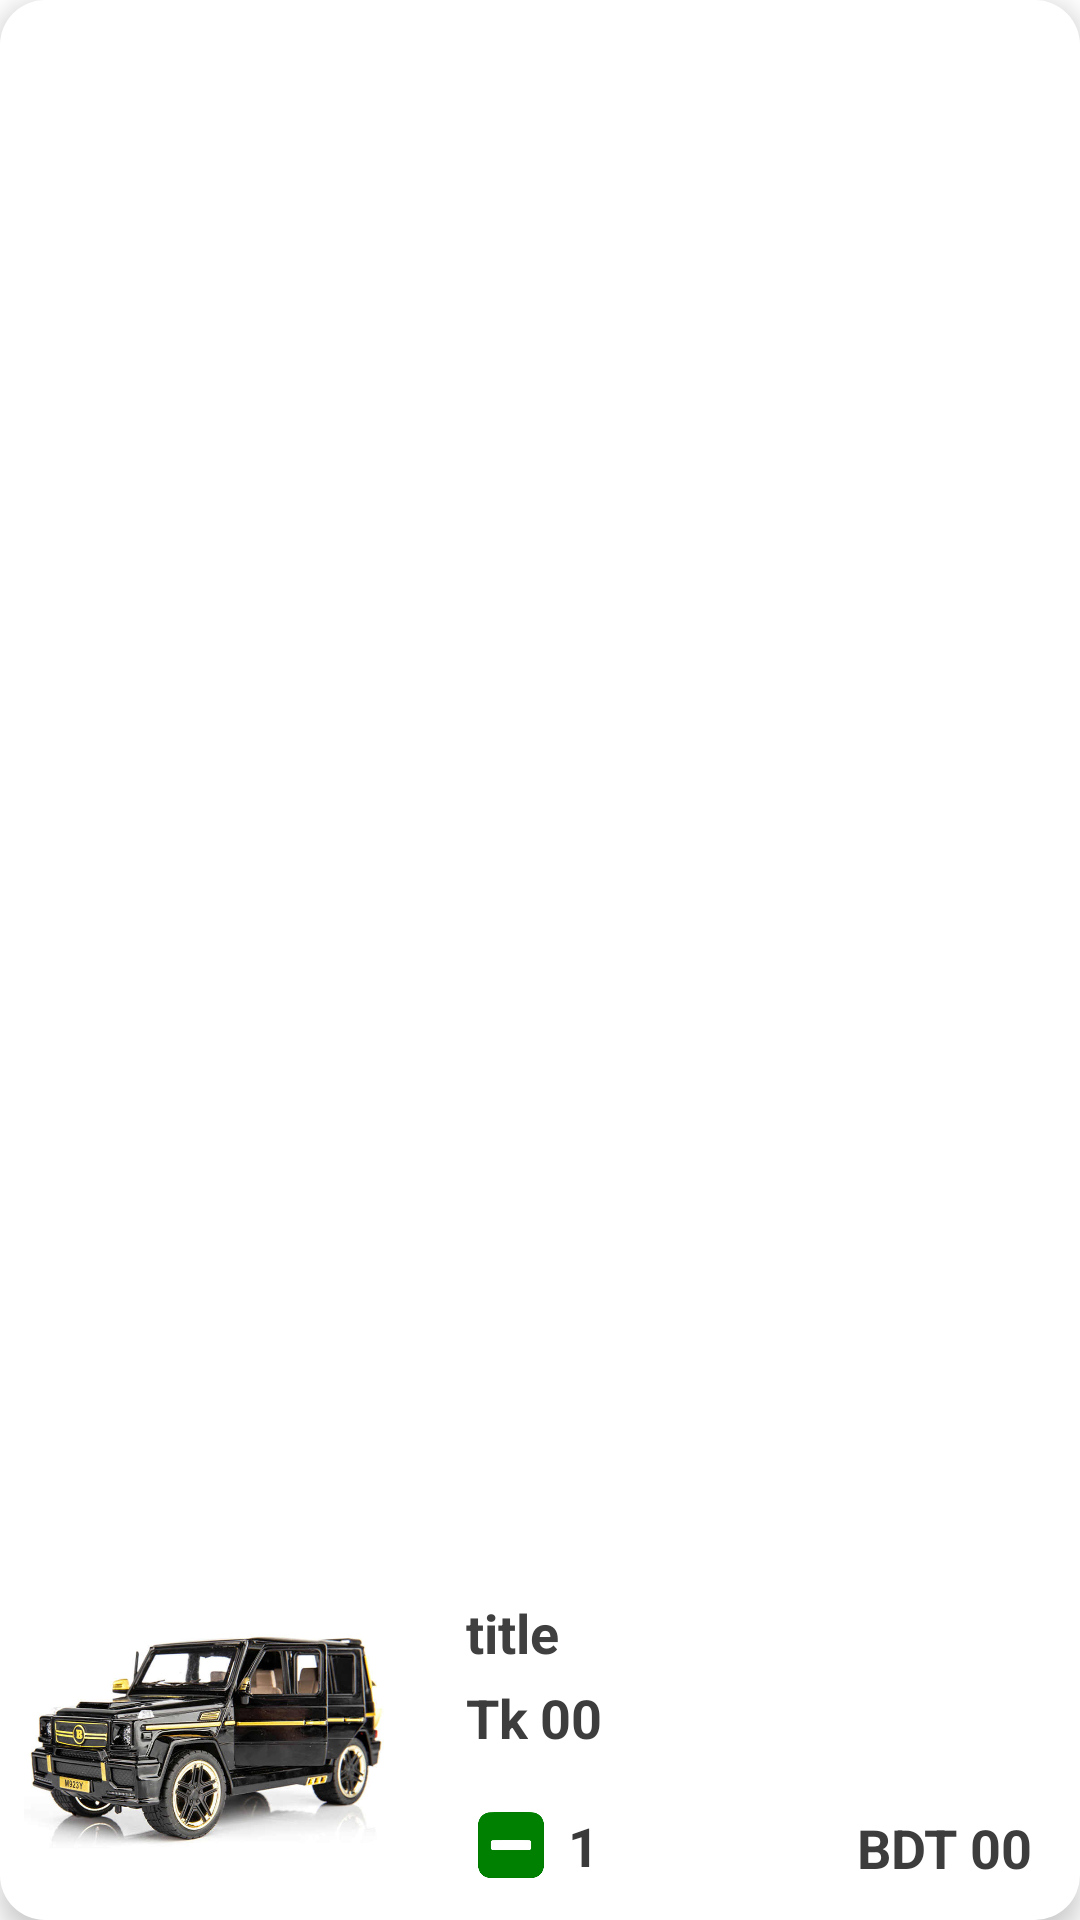

Where to tap for icons on this 1080x1920 app screen, as point (x, y):
minussquare: point (511, 1845)
